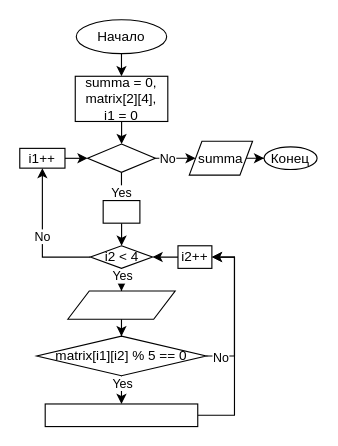
This 338x446 diagram has some shape labels left out. Here are the shapes that lost their labels. From the top down, the centre of each, then its label:
At [120,157]: "i1 < 2".
At [121,211]: "i2 = 0".
At [121,304]: "matrix[i1][i2]".
At [121,415]: "summa += matrix[i1][i2]".
